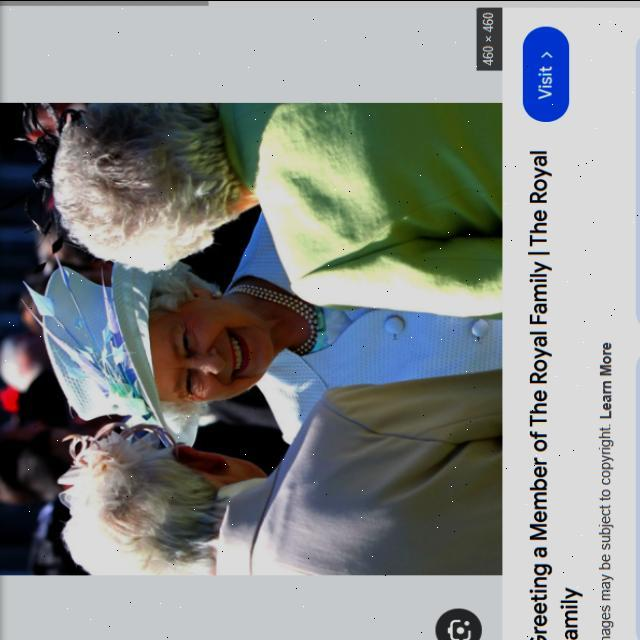face_no_mask: (146, 288, 274, 404)
